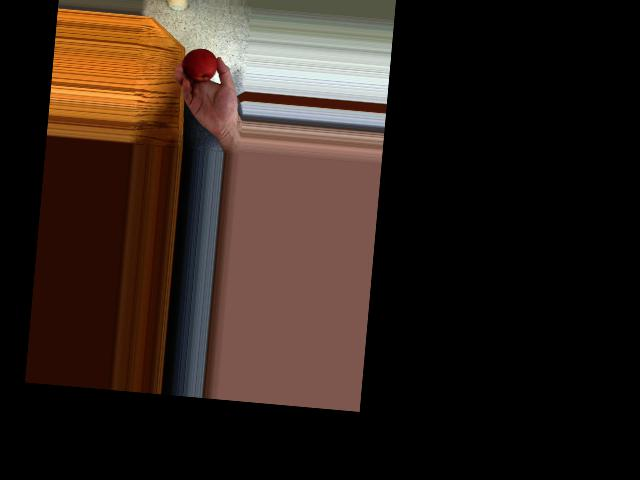apple: (180, 47, 220, 86)
